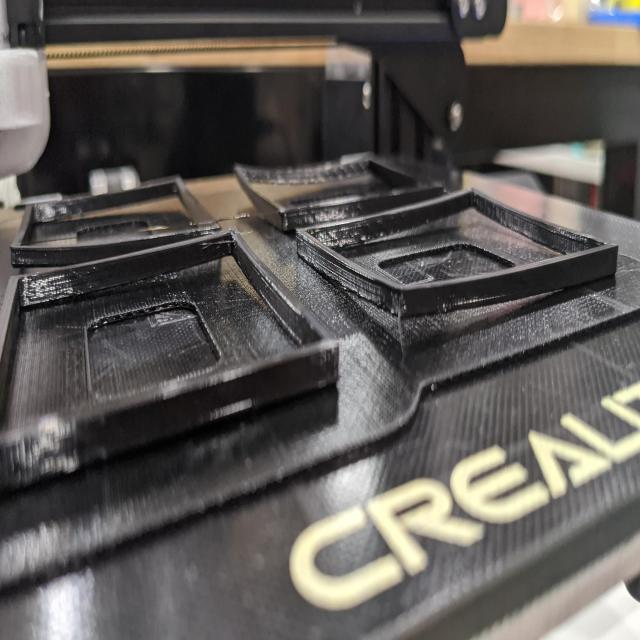warping: (381, 296, 451, 338), (440, 182, 498, 226), (145, 174, 192, 217), (198, 228, 242, 273), (10, 246, 60, 277), (230, 157, 256, 207)
